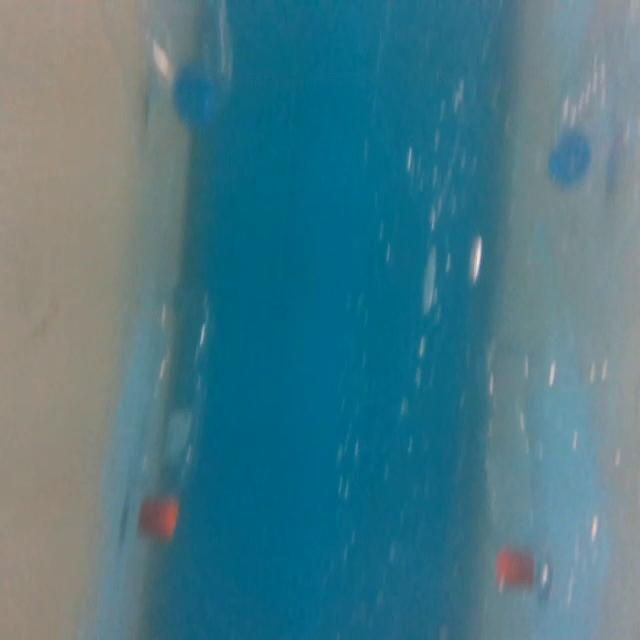plastic bottle: (130, 277, 217, 543), (130, 0, 240, 132)
